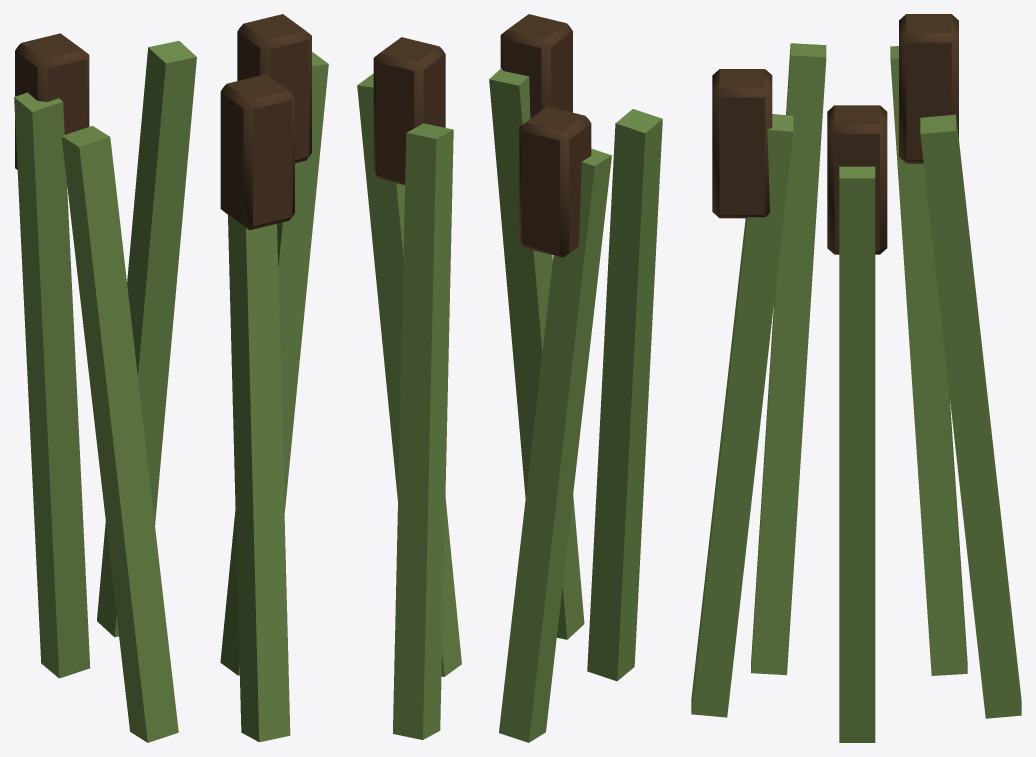
Rendered from reeds.glb.
3 renders of one model, left to right at view 1: azimuth 30°, elevation 25°; view 2: azimuth 150°, elevation 25°; view 3: azimuth 270°, elevation 25°, orthographic. The views are drawn at different scales.
Visible parts, largest first — view 1: reeds; view 2: reeds; view 3: reeds.
Boxes of the visible parts, x1,y1,x2,y2 form: reeds: (14, 14, 328, 742); reeds: (357, 14, 662, 742); reeds: (691, 14, 1021, 742).
Size of the model in its own units: 0.2643 by 0.5857 by 0.2755.
